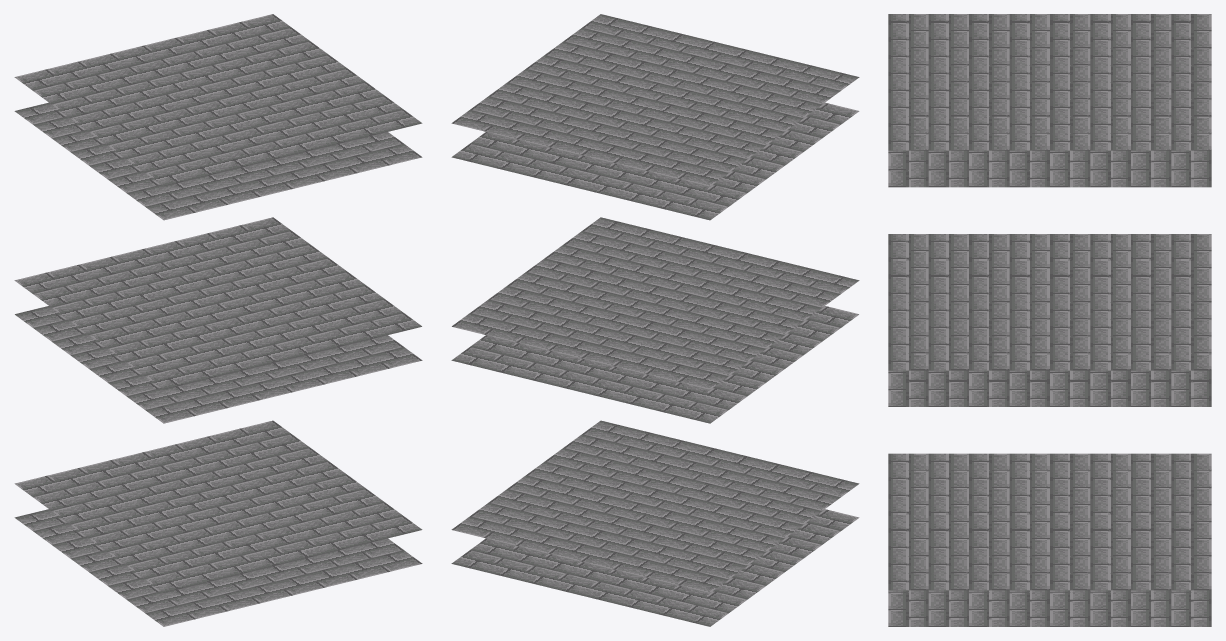
Rendered from Stone_Bricks_Chunk_21_9.fbx.
3 renders of one model, left to right at view 1: azimuth 30°, elevation 25°; view 2: azimuth 150°, elevation 25°; view 3: azimuth 270°, elevation 25°, orthographic. The views are drawn at different scales.
Parts seen in each view (by area): view 1: Stone_Bricks_Chunk_21_9; view 2: Stone_Bricks_Chunk_21_9; view 3: Stone_Bricks_Chunk_21_9.
Boxes of the visible parts, x1,y1,x2,y2 form: Stone_Bricks_Chunk_21_9: (14,14,422,626); Stone_Bricks_Chunk_21_9: (451,14,859,626); Stone_Bricks_Chunk_21_9: (888,14,1211,626).
Size of the model in its own units: 800 by 1300 by 800.
1 material, 1 textured.
